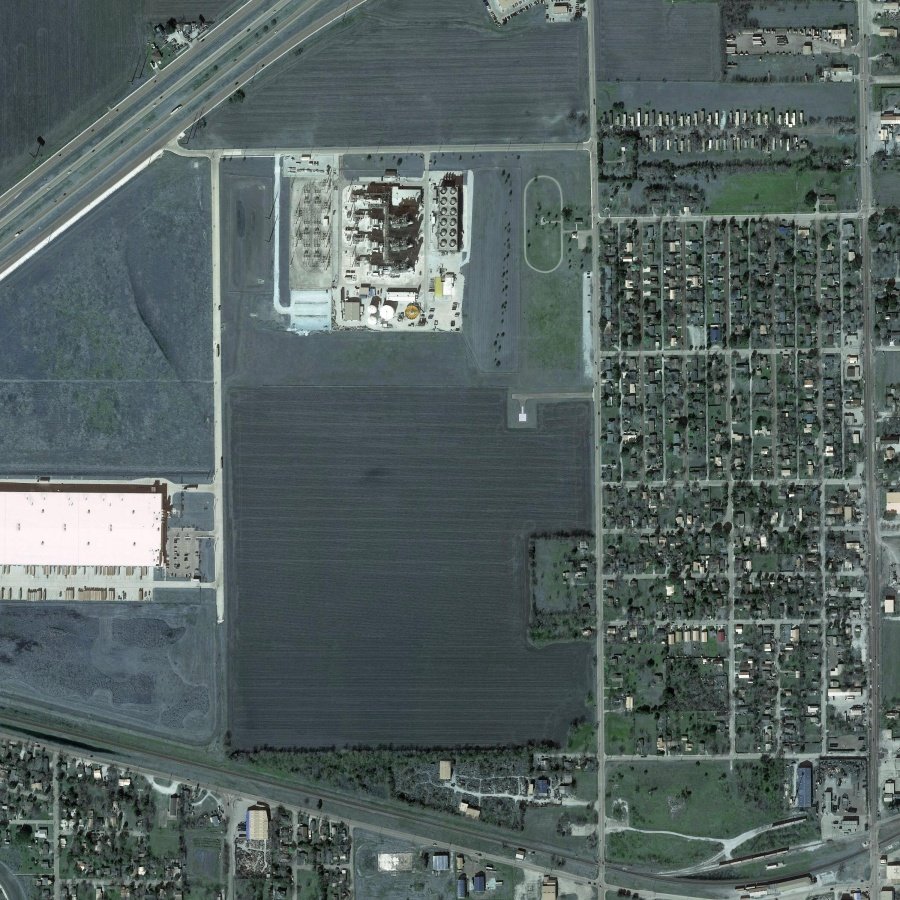PowerPlant: (276, 149, 470, 338)
